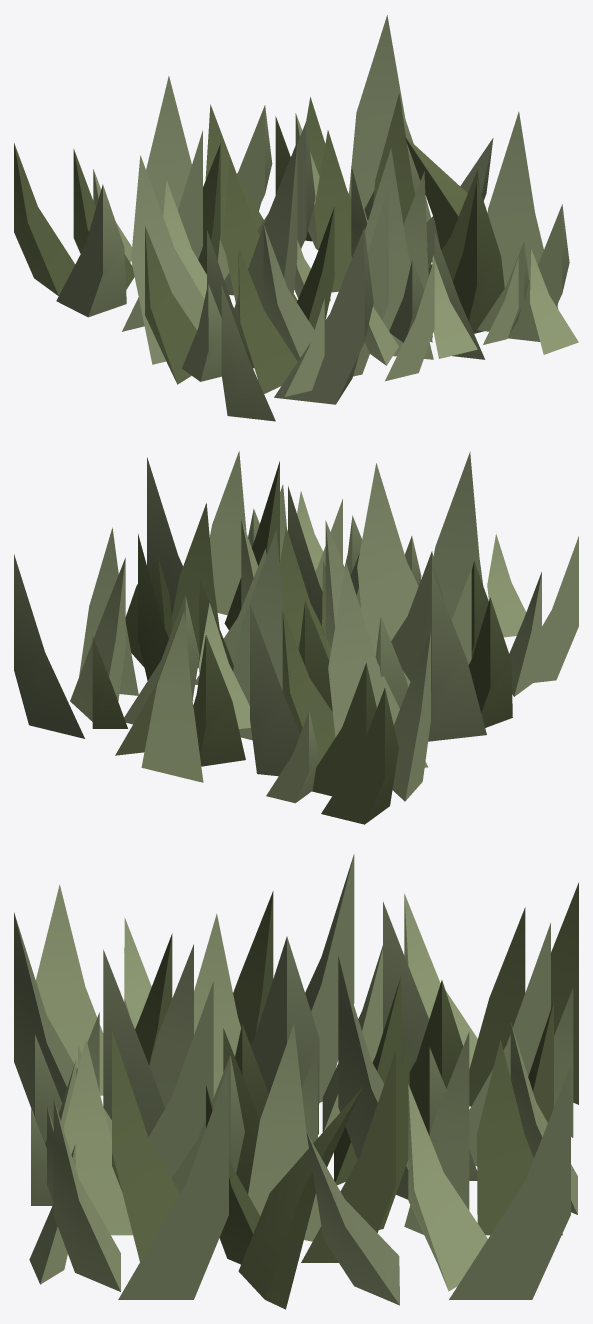
Rendered from grass.glb.
3 renders of one model, top to bottom at view 1: azimuth 30°, elevation 25°; view 2: azimuth 150°, elevation 25°; view 3: azimuth 270°, elevation 25°, orthographic. The views are drawn at different scales.
Parts seen in each view (by area): view 1: grass; view 2: grass; view 3: grass.
Boxes of the visible parts, x1=… form: grass: x1=14, y1=15, x2=578, y2=421; grass: x1=14, y1=451, x2=578, y2=824; grass: x1=14, y1=854, x2=578, y2=1309.
Bounding box in the file's own units: 0.7594 × 0.3986 × 0.7432.
